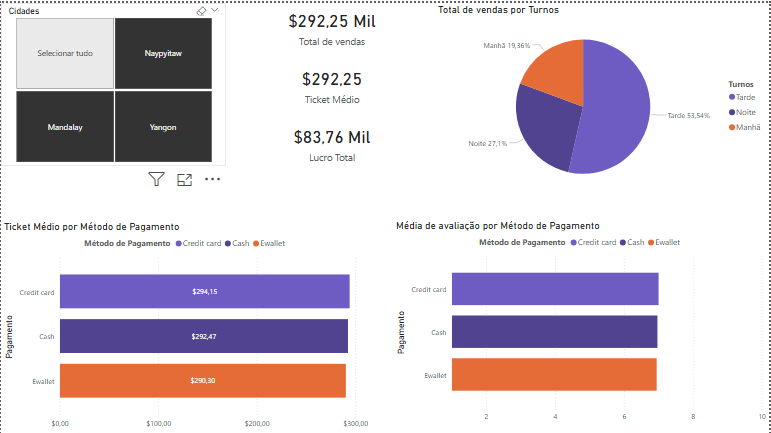

What the dashboard file says about the page in this screenshot:
{"tool":"powerbi","page":{"name":"Análise Descritiva","canvas":[1280,720],"ordinal":0},"visuals":[{"type":"card","fields":{"Values":["dataset-IAN-Store.Total de vendas"]},"box":[398.3,0,306.7,78.3],"z":0},{"type":"slicer","fields":{"Values":["dataset-IAN-Store.City"]},"box":[0,0,375,271.7],"z":1000},{"type":"pieChart","fields":{"Category":["dataset-IAN-Store.Turnos"],"Y":["dataset-IAN-Store.Total de vendas"]},"box":[723.3,0,556.7,326.7],"z":2000},{"type":"barChart","title":"Ticket Médio por Método de Pagamento","fields":{"Category":["dataset-IAN-Store.Payment"],"Series":["dataset-IAN-Store.Payment"],"Y":["dataset-IAN-Store.Ticket Médio"]},"box":[0,361.7,616.7,358.3],"z":3000},{"type":"barChart","title":"Média de avaliação por Método de Pagamento","fields":{"Y":["dataset-IAN-Store.Rating Final"],"Category":["dataset-IAN-Store.Payment"],"Series":["dataset-IAN-Store.Payment"]},"box":[653.3,360,626.7,360],"z":4000},{"type":"card","fields":{"Values":["dataset-IAN-Store.Ticket Médio"]},"box":[398.3,96.7,306.7,78.3],"z":5000},{"type":"card","fields":{"Values":["dataset-IAN-Store.Lucro Total"]},"box":[398.3,193.3,306.7,78.3],"z":6000}]}

Visuals, with their boxes in screenshot pixels (x1, y1, x2, y2), scaled from the page's 1280x720 canvas onto the 771x433 screenshot:
card - dataset-IAN-Store.Total de vendas: [240,0,425,47]
slicer - dataset-IAN-Store.City: [0,0,226,163]
pieChart - dataset-IAN-Store.Turnos x dataset-IAN-Store.Total de vendas: [436,0,770,196]
"Ticket Médio por Método de Pagamento" barChart: [0,218,371,432]
"Média de avaliação por Método de Pagamento" barChart: [394,216,770,432]
card - dataset-IAN-Store.Ticket Médio: [240,58,425,105]
card - dataset-IAN-Store.Lucro Total: [240,116,425,163]
